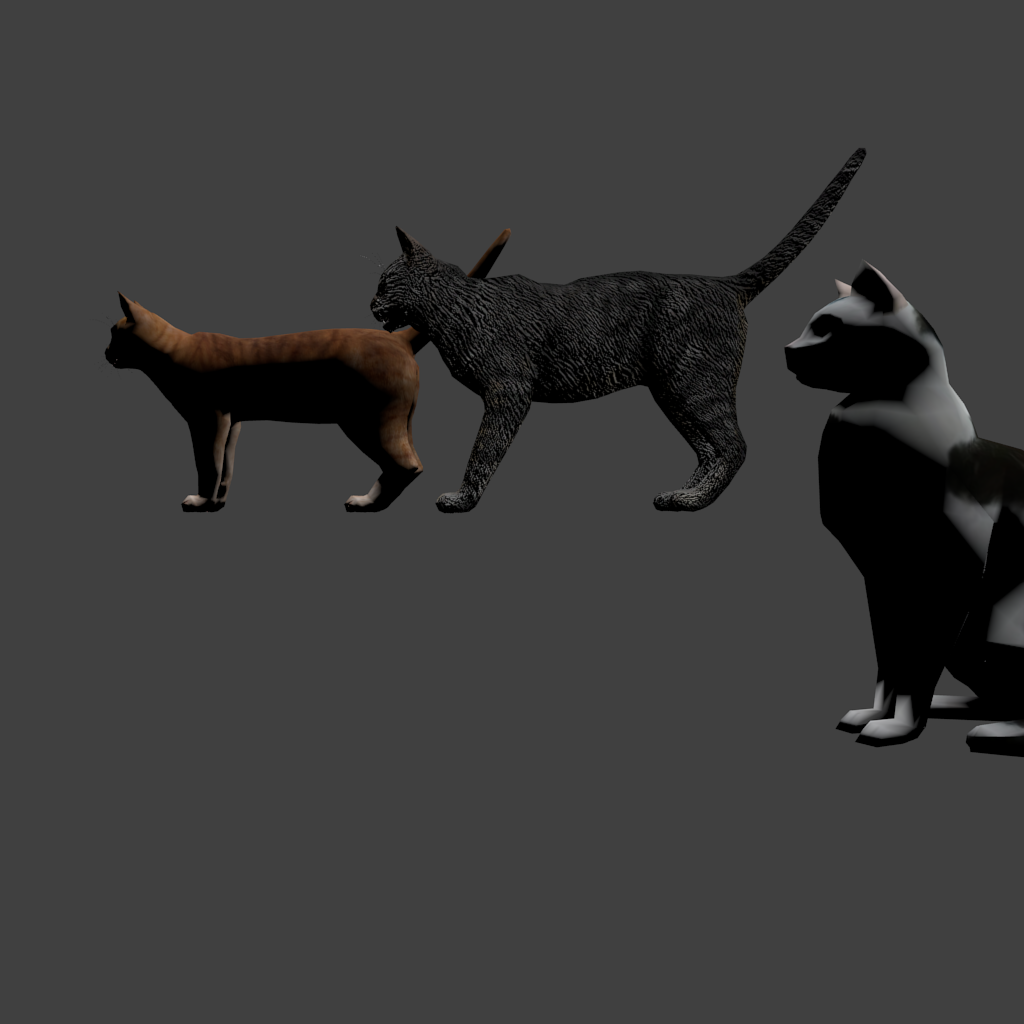Cat: (357, 148, 510, 366), (86, 228, 425, 284)
